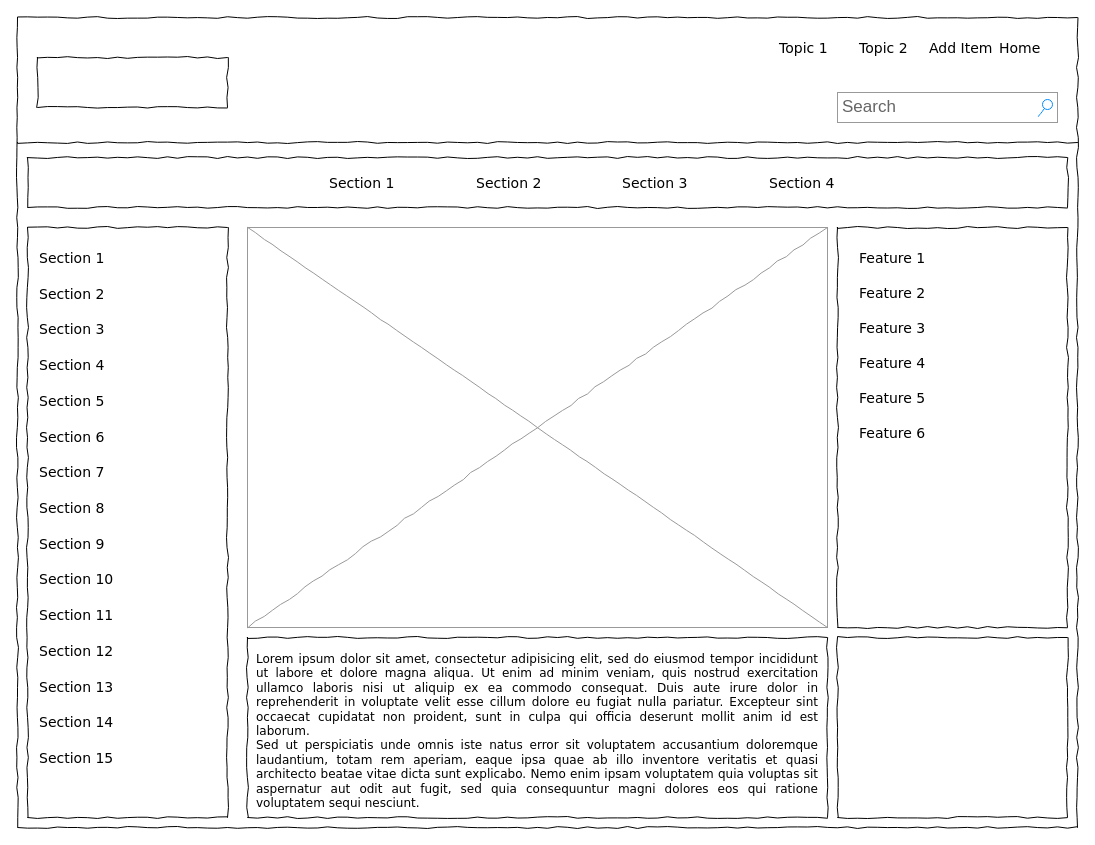
This 1095x845 diagram has some shape labels left out. Here are the shapes that lost their labels. From the top down, the box of each, then its label:
(36, 56, 228, 108): LOGO
(836, 636, 1068, 818): External Links
